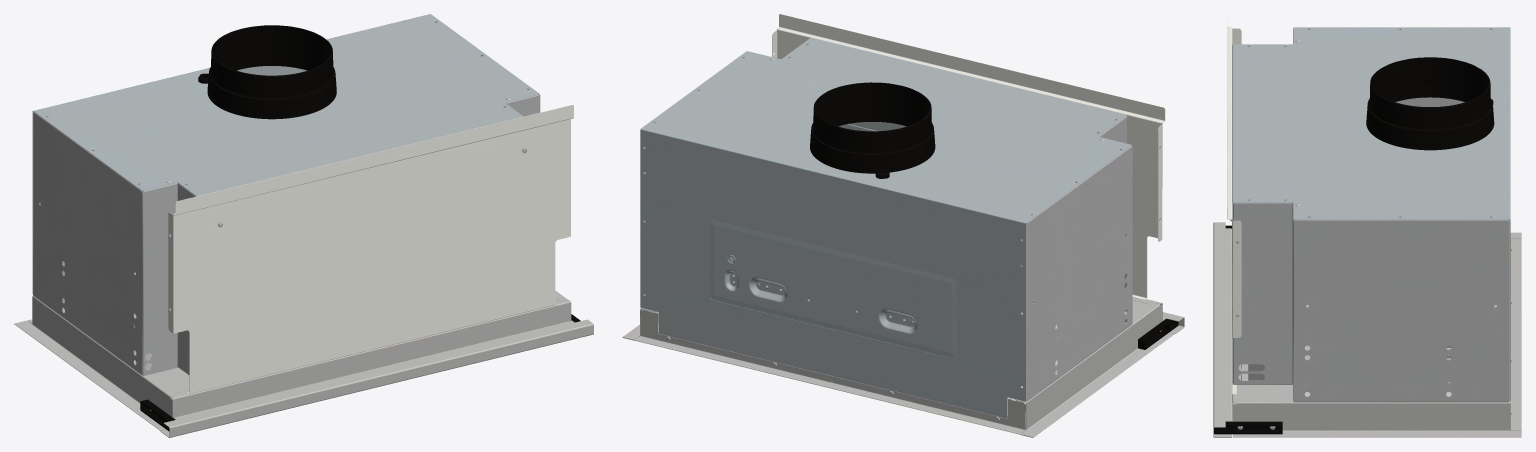
Rendered from mangsbo_wbudowany_okap_kominowy_90609116.glb.
3 views of the same model, side by side, from view 1: azimuth 30°, elevation 25°; view 2: azimuth 150°, elevation 25°; view 3: azimuth 270°, elevation 25° (orthographic). The views are drawn at different scales.
Visible parts, largest first — view 1: mangsbo_wbudowany_okap_kominowy_90609116; view 2: mangsbo_wbudowany_okap_kominowy_90609116; view 3: mangsbo_wbudowany_okap_kominowy_90609116.
Boxes of the visible parts, x1,y1,x2,y2 form: mangsbo_wbudowany_okap_kominowy_90609116: (14, 14, 593, 437); mangsbo_wbudowany_okap_kominowy_90609116: (622, 14, 1184, 437); mangsbo_wbudowany_okap_kominowy_90609116: (1213, 14, 1521, 437).
Bounding box in the file's own units: 0.5995 × 0.3456 × 0.3815.
2 materials, 2 textured.
